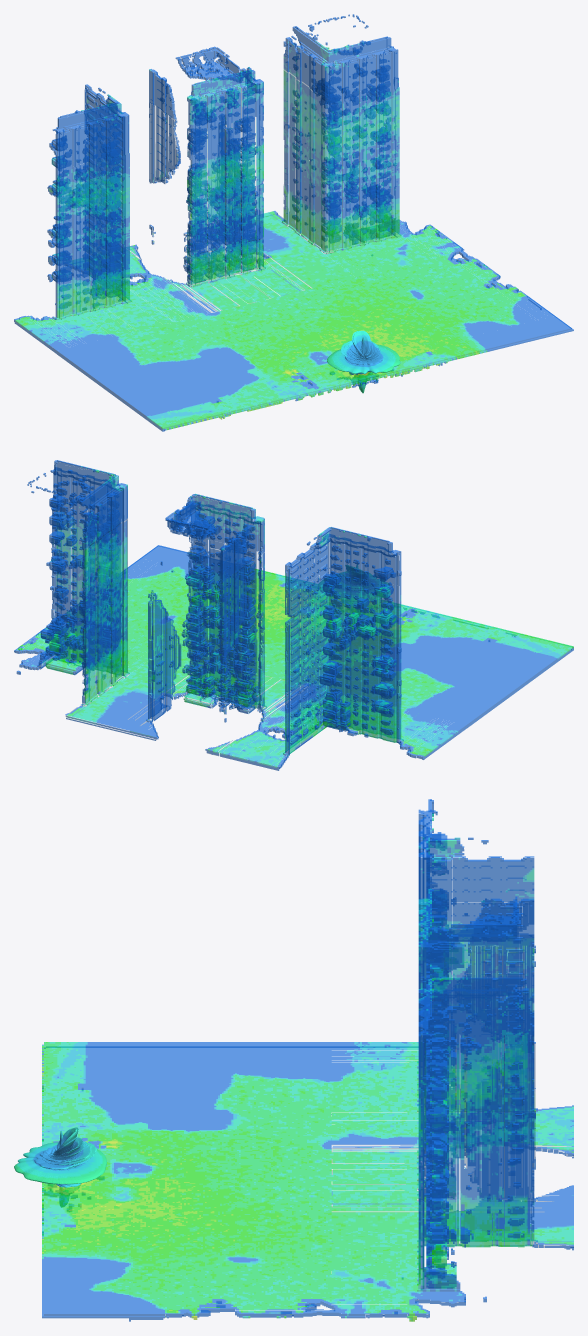
File: three_buildings_vertical.glb
The picture shows the model from 3 angles, top to bottom: view 1: azimuth 30°, elevation 25°; view 2: azimuth 150°, elevation 25°; view 3: azimuth 270°, elevation 25°; orthographic projection. The views are drawn at different scales.
Visible parts, largest first — view 1: chunk:4.014, chunk:0.025, chunk:8.005, chunk:1.014, chunk:5.014, chunk:9.005, chunk:7.005, chunk:3.014, chunk:11.001, chunk:2.014, chunk:6.005, Emitter-0 3550.000000MHz 0.050000w.002 (+1 smaller); view 2: chunk:4.014, chunk:0.025, chunk:1.014, chunk:8.005, chunk:7.005, chunk:5.014, chunk:9.005, chunk:3.014, chunk:11.001, chunk:2.014, chunk:6.005, Emitter-0 3550.000000MHz 0.050000w.002 (+1 smaller); view 3: chunk:4.014, chunk:1.014, chunk:5.014, chunk:0.025, chunk:9.005, chunk:8.005, chunk:7.005, chunk:3.014, chunk:2.014, chunk:11.001, Emitter-0 3550.000000MHz 0.050000w.002, chunk:10.005 (+1 smaller).
Part boxes in pixels (x1,y1,x2,y2): chunk:4.014: (126, 70, 364, 312); chunk:0.025: (14, 119, 210, 353); chunk:8.005: (299, 80, 463, 275); chunk:1.014: (57, 313, 299, 419); chunk:5.014: (211, 276, 453, 378); chunk:9.005: (366, 251, 555, 340); chunk:7.005: (149, 26, 333, 132); chunk:3.014: (49, 84, 129, 165); chunk:11.001: (294, 14, 398, 97); chunk:2.014: (146, 378, 317, 431); chunk:6.005: (300, 341, 471, 395); Emitter-0 3550.000000MHz 0.050000w.002: (327, 330, 400, 393); chunk:4.014: (65, 518, 306, 755); chunk:0.025: (220, 568, 466, 770); chunk:1.014: (311, 621, 556, 727); chunk:8.005: (14, 504, 151, 675); chunk:7.005: (81, 475, 264, 582); chunk:5.014: (154, 584, 399, 685); chunk:9.005: (65, 557, 239, 648); chunk:3.014: (285, 527, 401, 598); chunk:11.001: (27, 460, 120, 520); chunk:2.014: (401, 608, 573, 662); chunk:6.005: (253, 570, 417, 619); Emitter-0 3550.000000MHz 0.050000w.002: (318, 564, 388, 606); chunk:4.014: (331, 945, 573, 1250); chunk:1.014: (89, 1042, 331, 1144); chunk:5.014: (89, 1144, 331, 1246); chunk:0.025: (331, 857, 573, 1146); chunk:9.005: (89, 1247, 331, 1321); chunk:8.005: (331, 1037, 518, 1321); chunk:7.005: (418, 888, 534, 1035); chunk:3.014: (418, 799, 534, 902); chunk:2.014: (42, 1042, 89, 1145); chunk:11.001: (418, 977, 526, 1081); Emitter-0 3550.000000MHz 0.050000w.002: (14, 1127, 106, 1207); chunk:10.005: (42, 1247, 89, 1318).
Size of the model in its own units: 136 by 69.3 by 118.
Materials: 13 (12 with a texture image).
